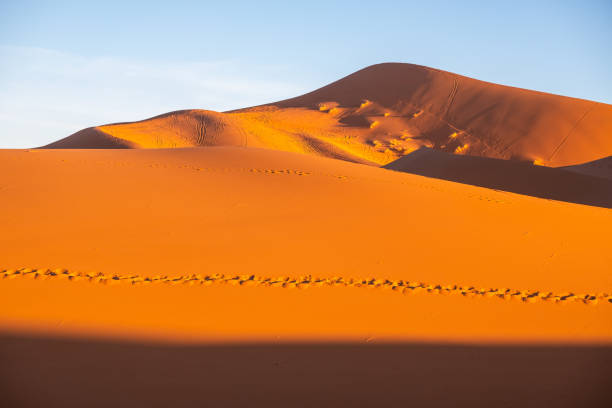animal_footprint: (0, 268, 611, 304)
